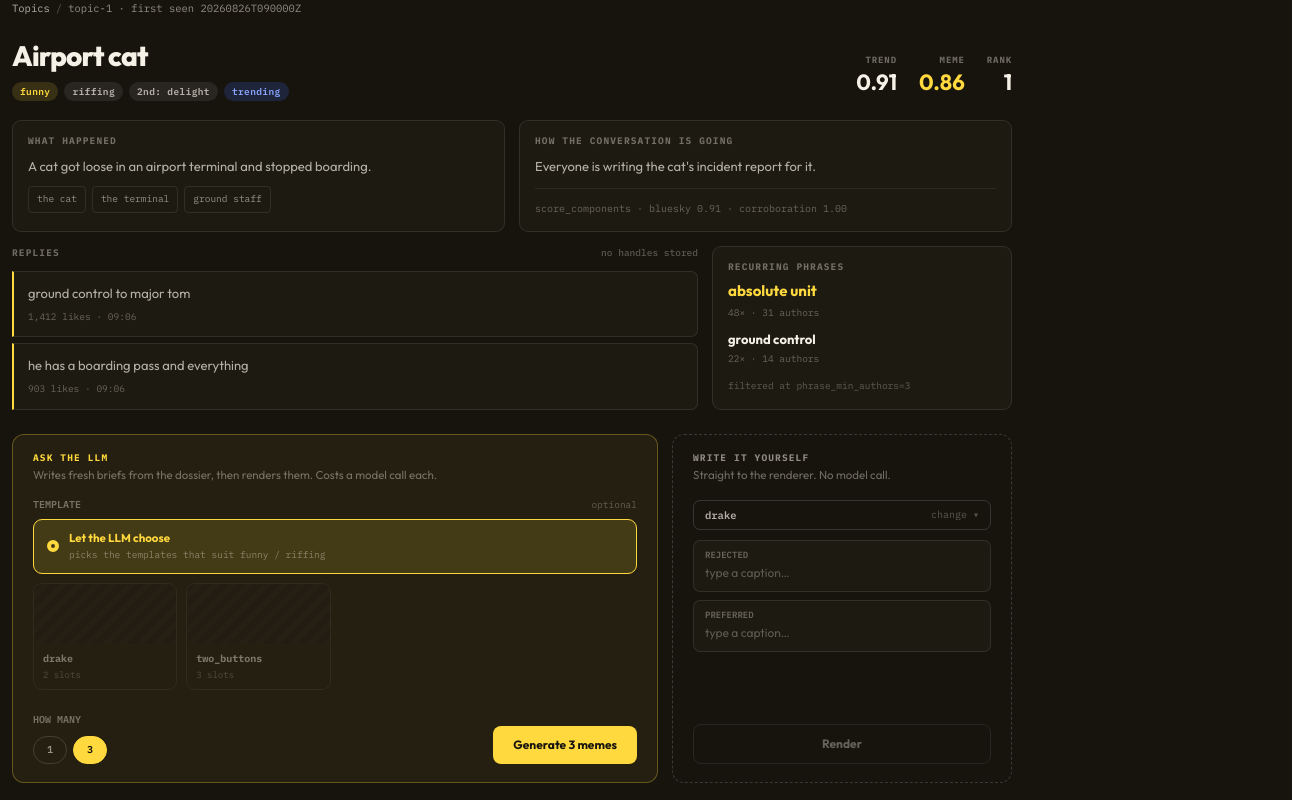
Test case: Ask the LLM › shows the server's reason when it will not generate, and leaves nothing drawn
The image size is (1292, 800).
Click the button "Generate 3 memes".
click(565, 745)  # box [493,726,637,764]
(page scrolled)
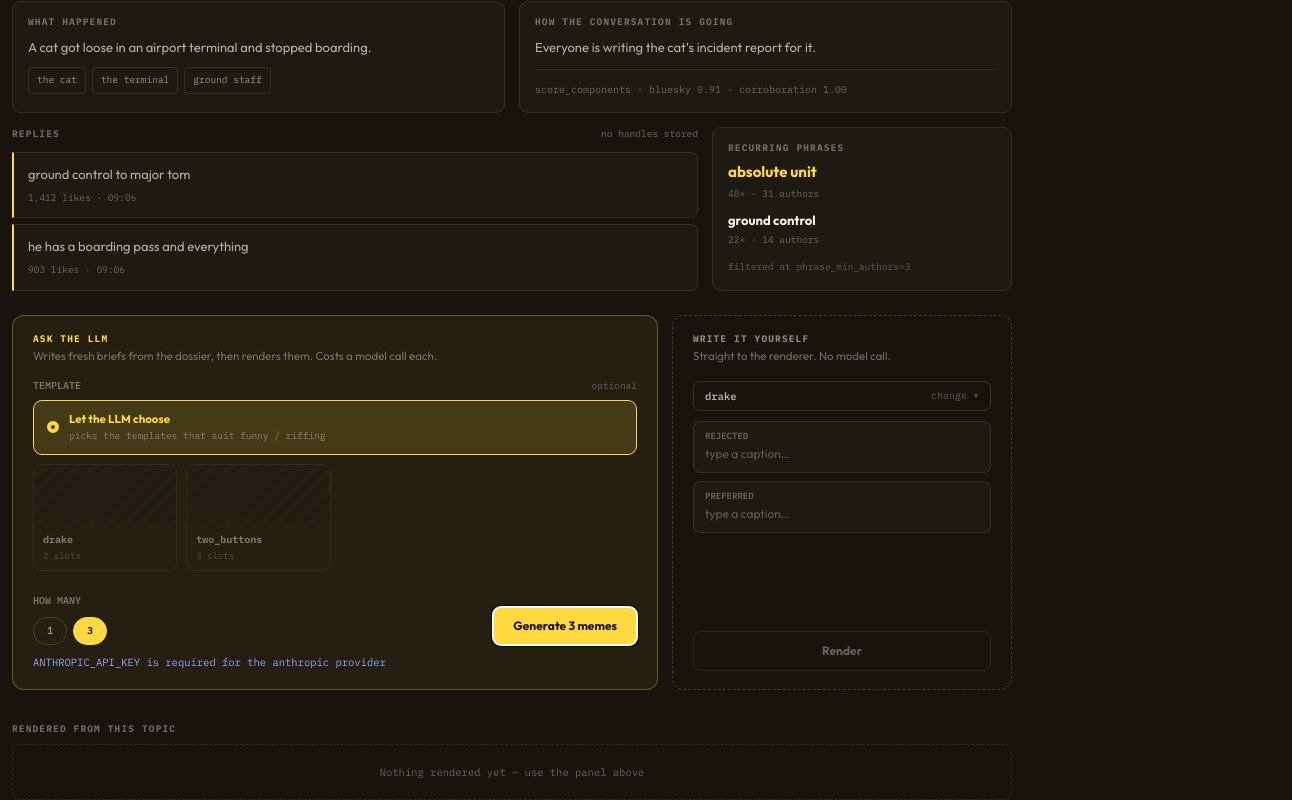
Expected: the text "Nothing rendered yet — use the panel above" is shown, [12,744,1012,799]
Now the message reads "ANTHROPIC_API_KEY is required for the anthropic provider", box [33,655,386,669]
